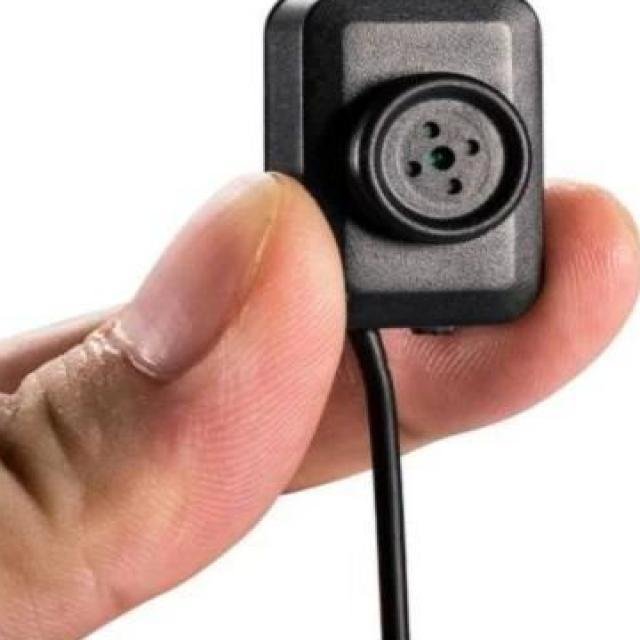hidden camera: (379, 91, 530, 240)
